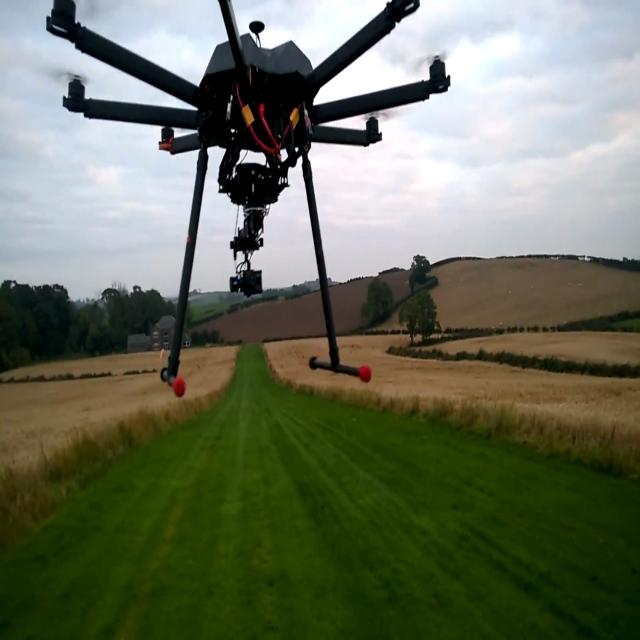drone: (42, 0, 456, 395)
